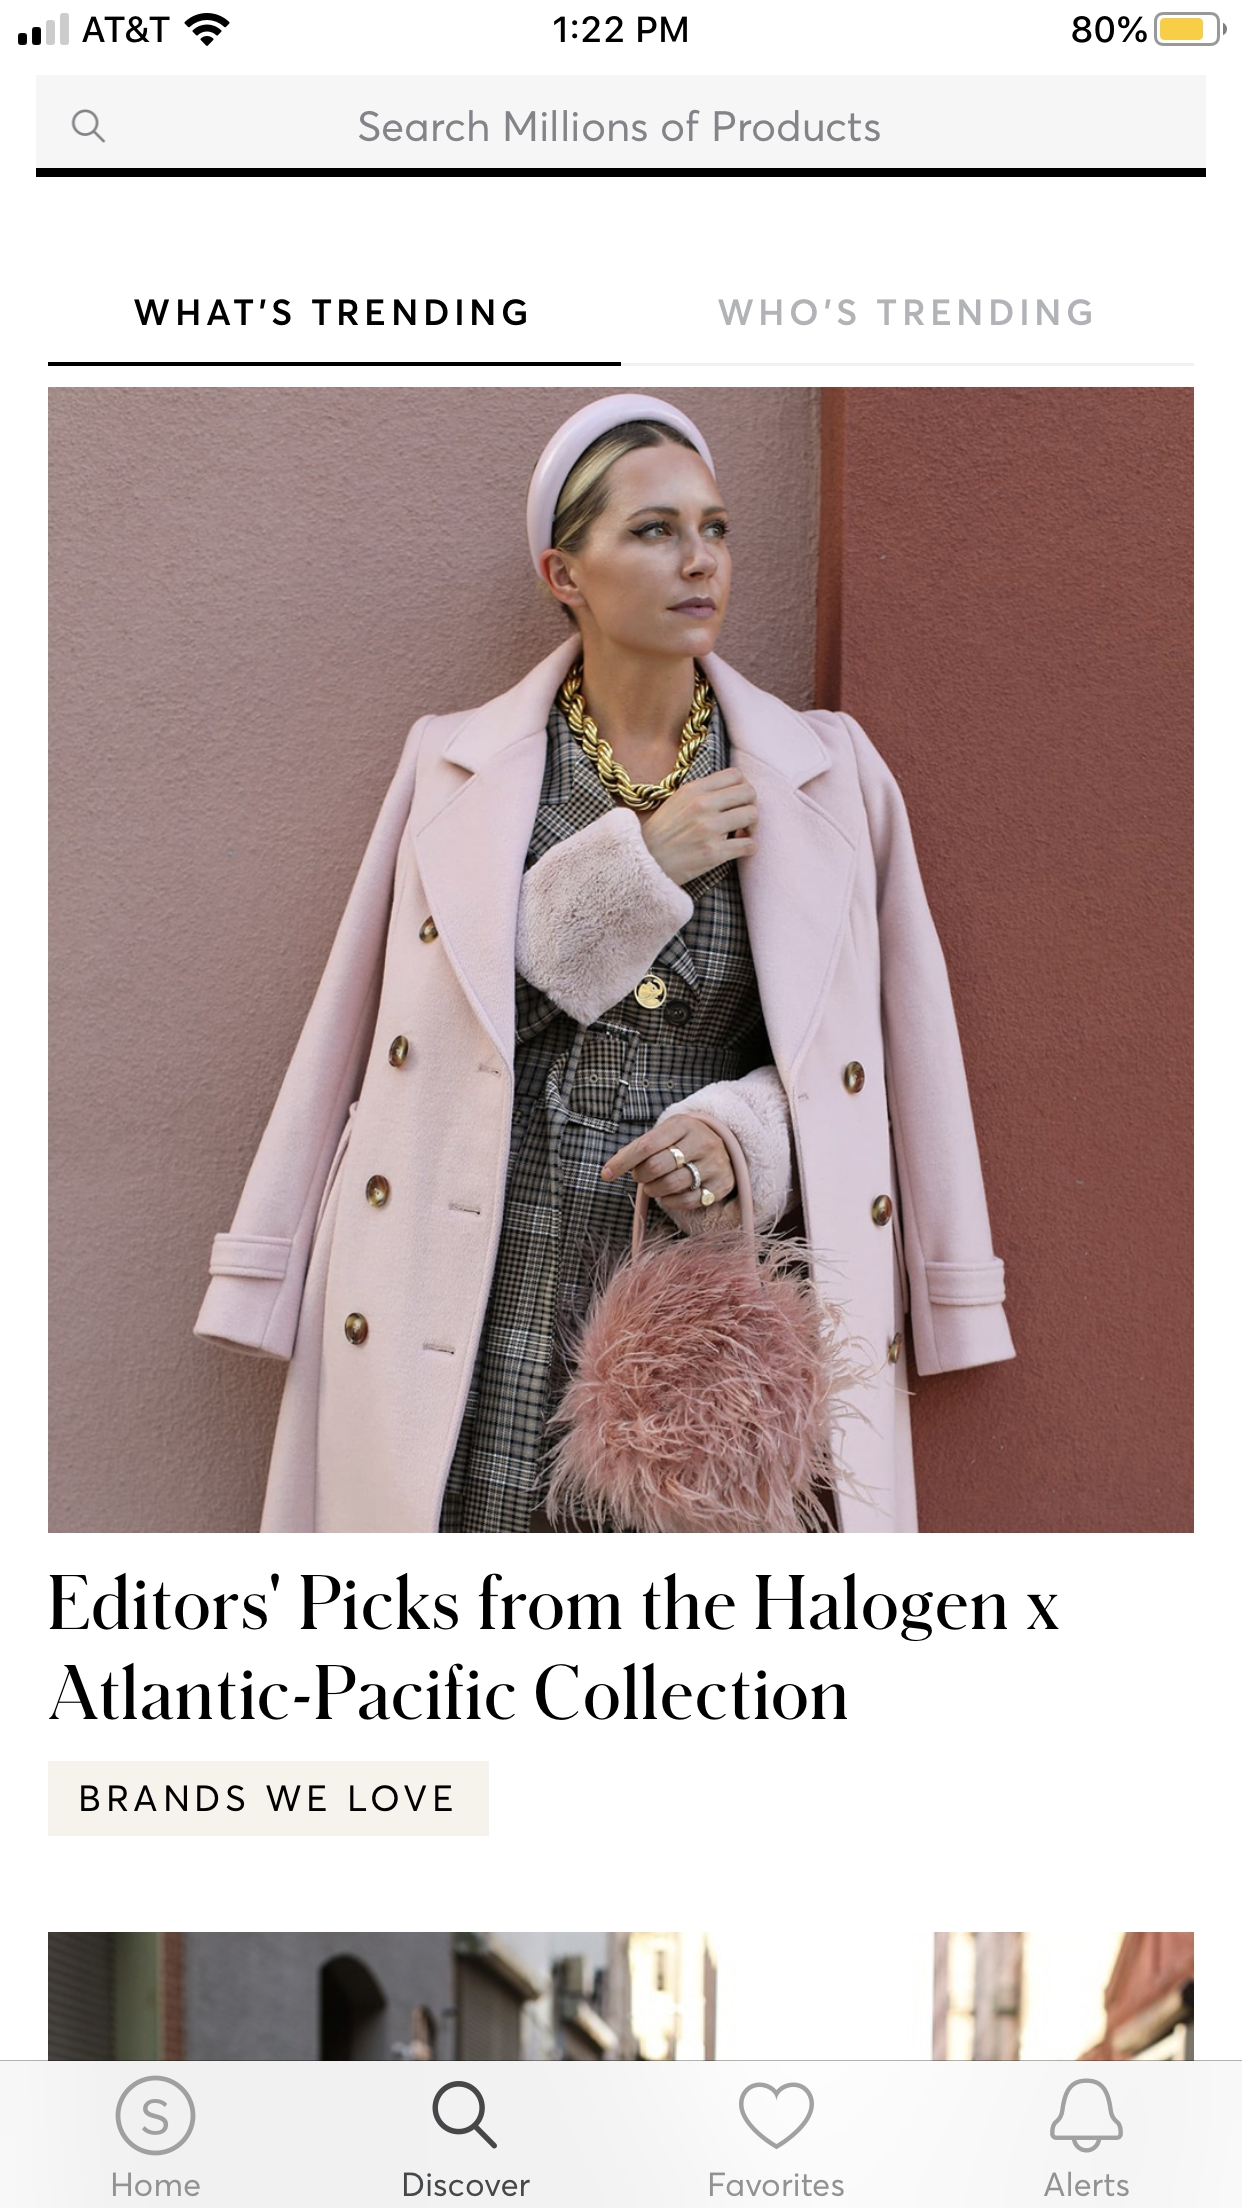EditText: (36, 76, 1207, 179)
Icon: (1049, 2078, 1124, 2153), (739, 2081, 814, 2149), (432, 2081, 499, 2150), (71, 111, 108, 144)
Image: (49, 387, 1193, 1535), (49, 1930, 1193, 2059), (115, 2075, 199, 2156)
Text: (49, 1573, 1060, 1721), (359, 111, 881, 143), (133, 299, 528, 328), (717, 299, 1092, 328), (710, 2172, 845, 2197), (403, 2172, 531, 2197), (1043, 2170, 1130, 2197), (114, 2172, 202, 2197)
TextButton: (49, 1761, 490, 1836)
UpperTaskBar: (2, 2, 1242, 49)
